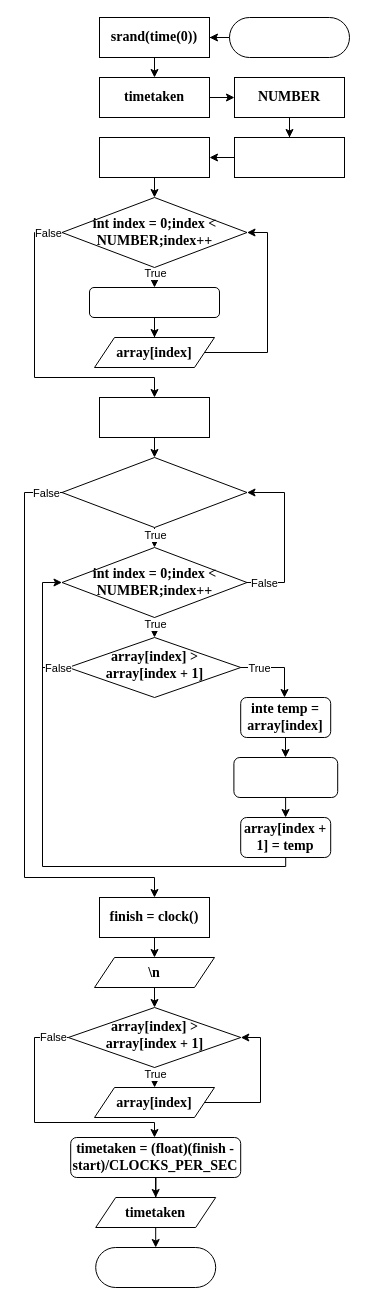
The diagram is 367 pixels wide and 1305 high, and some of its shapes have lost their labels. The shapes that lost their labels are listed below. From the top down, each one's centre as x and y in pixels, then its label:
the point at 289,37: Beginning
the point at 154,157: int array[number]
the point at 289,157: clock_t start,finish
the point at 154,302: array[index] = rand() % 20 - 10 + 1
the point at 154,417: start = clock()
the point at 154,492: int j = 0;j < NUMBER;j++
the point at 285,777: array[index] = array[index + 1]
the point at 155,1267: End
